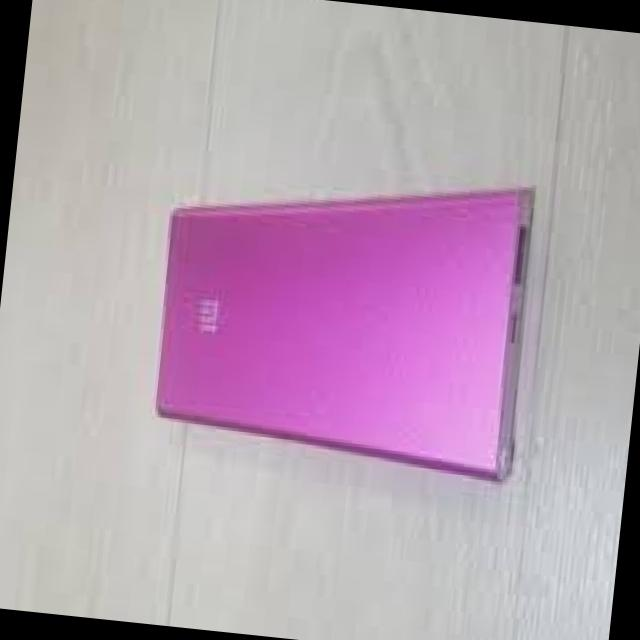power_bank: (145, 148, 544, 478)
